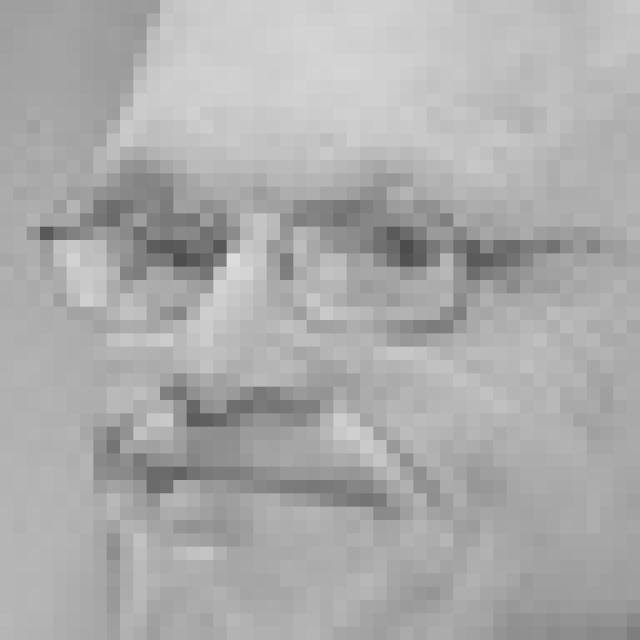disgust: (107, 144, 484, 572)
